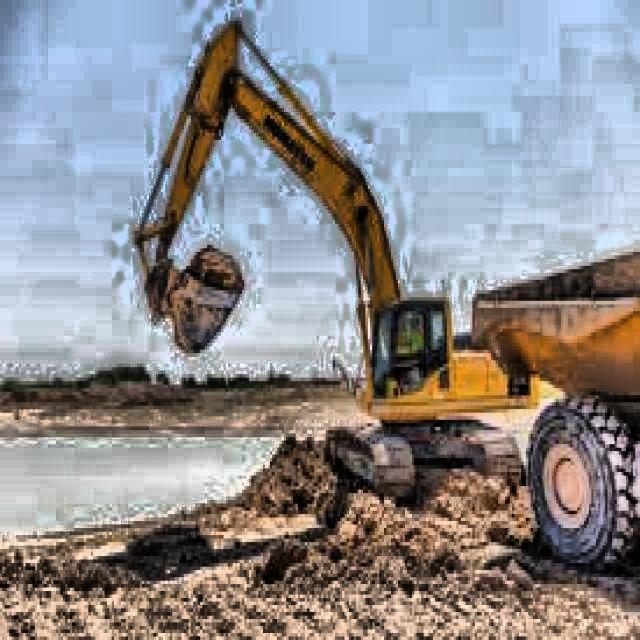bull_dozer/loader/grader: (128, 11, 540, 506), (474, 242, 640, 586)
person: (403, 310, 427, 356)
